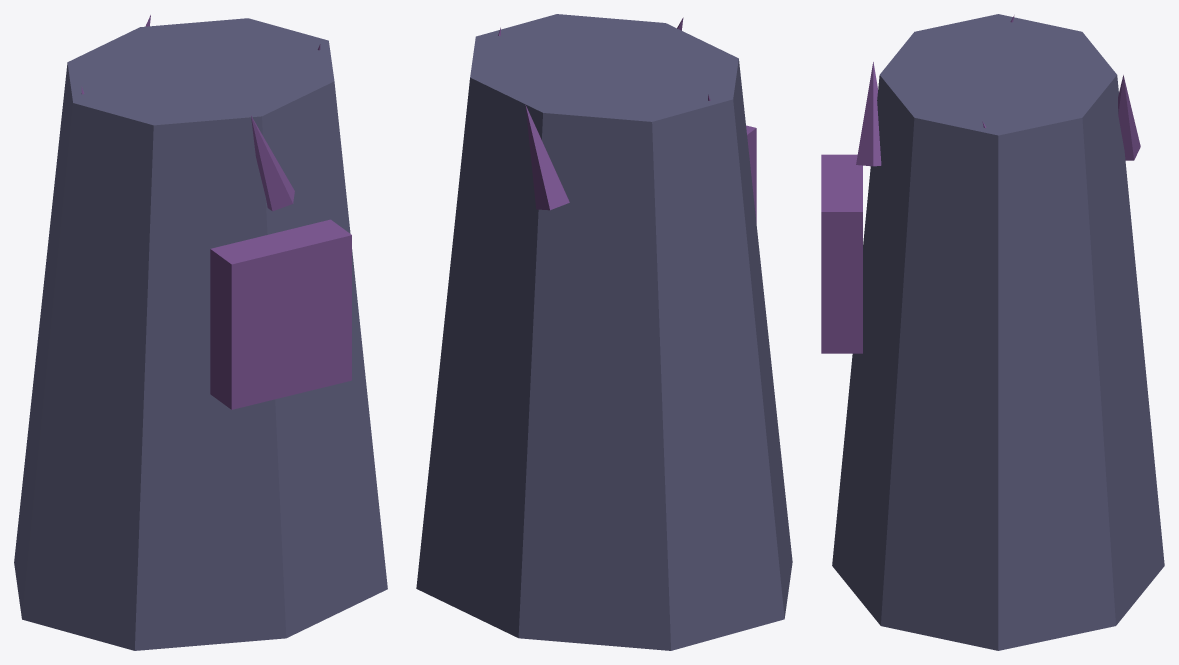
Rendered from hostile_torso_seer.glb.
3 views of the same model, side by side, from view 1: azimuth 30°, elevation 25°; view 2: azimuth 150°, elevation 25°; view 3: azimuth 270°, elevation 25° (orthographic). The views are drawn at different scales.
Visible parts, largest first — view 1: hostile_torso_seer; view 2: hostile_torso_seer; view 3: hostile_torso_seer.
Part boxes in pixels (box(x1,y1,x2,y2)): hostile_torso_seer: box(14, 15, 387, 650); hostile_torso_seer: box(416, 14, 792, 650); hostile_torso_seer: box(821, 14, 1164, 650).
Bounding box in the file's own units: 0.7728 × 1.06 × 0.6592.
